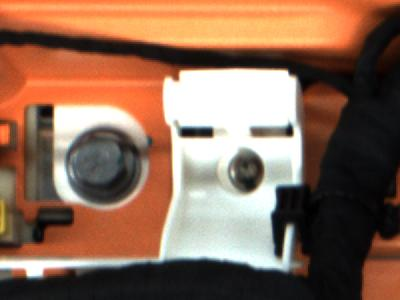nut_b: (61, 123, 141, 195)
